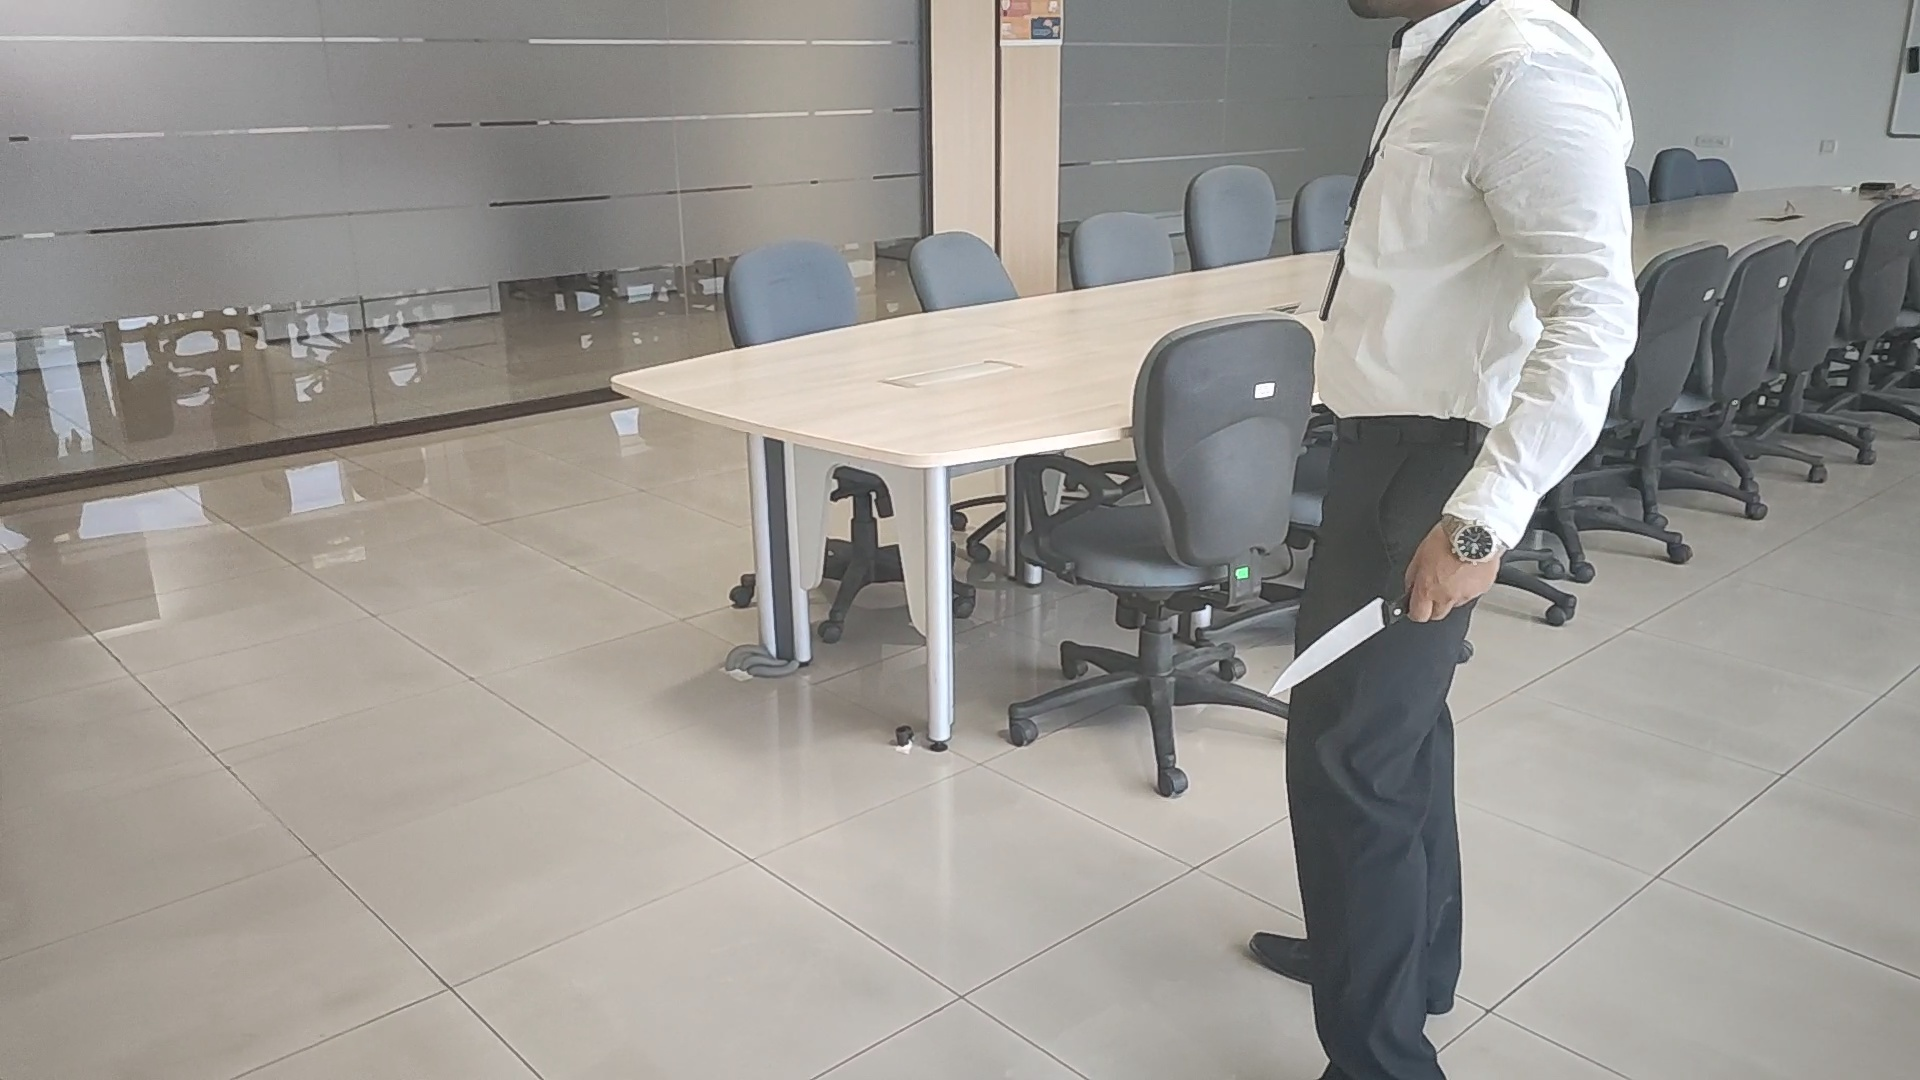knife: (1270, 592, 1411, 696)
